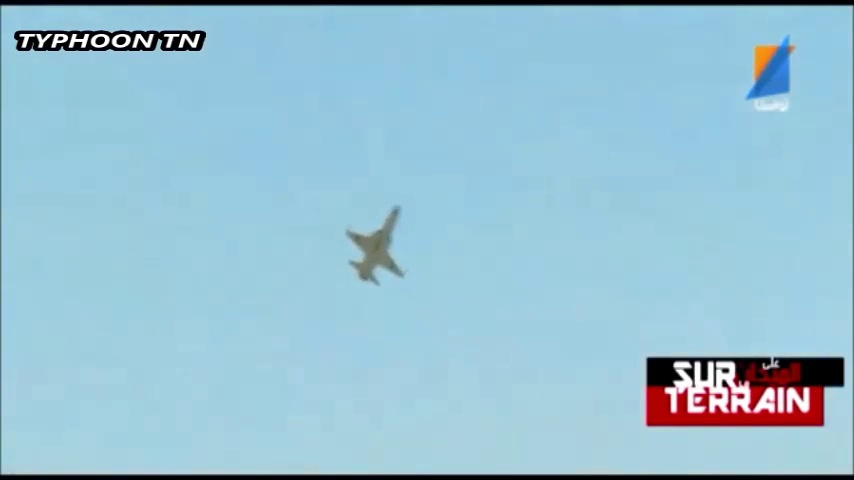Airplane: (345, 203, 407, 288)
